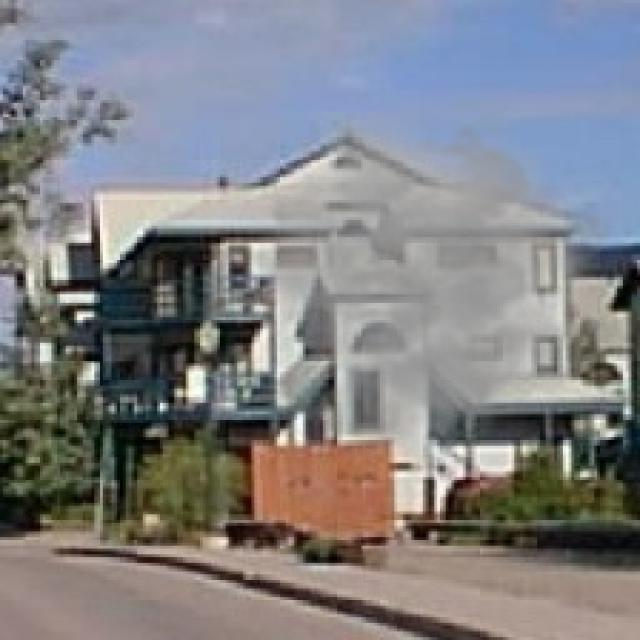Smoke: (240, 112, 617, 477)
